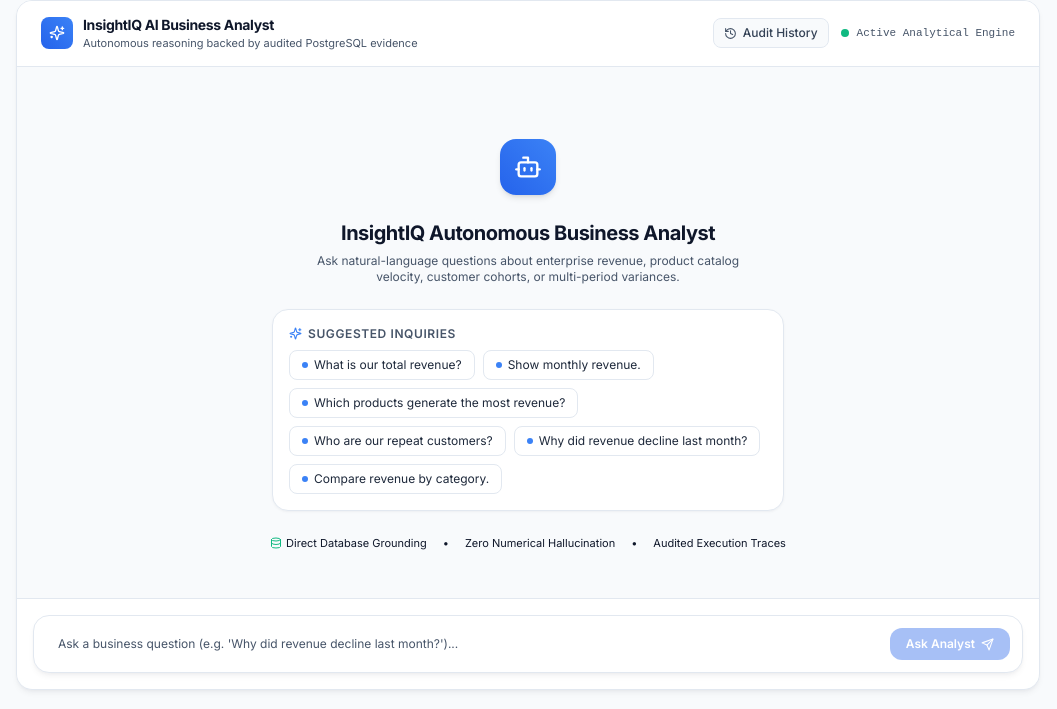
Test: AnalystPage Integration View › displays error state when question query fails
Replace the text in the field with placeholder "Ask a business question" with "Test error" at (464, 644), box [46, 628, 882, 660]
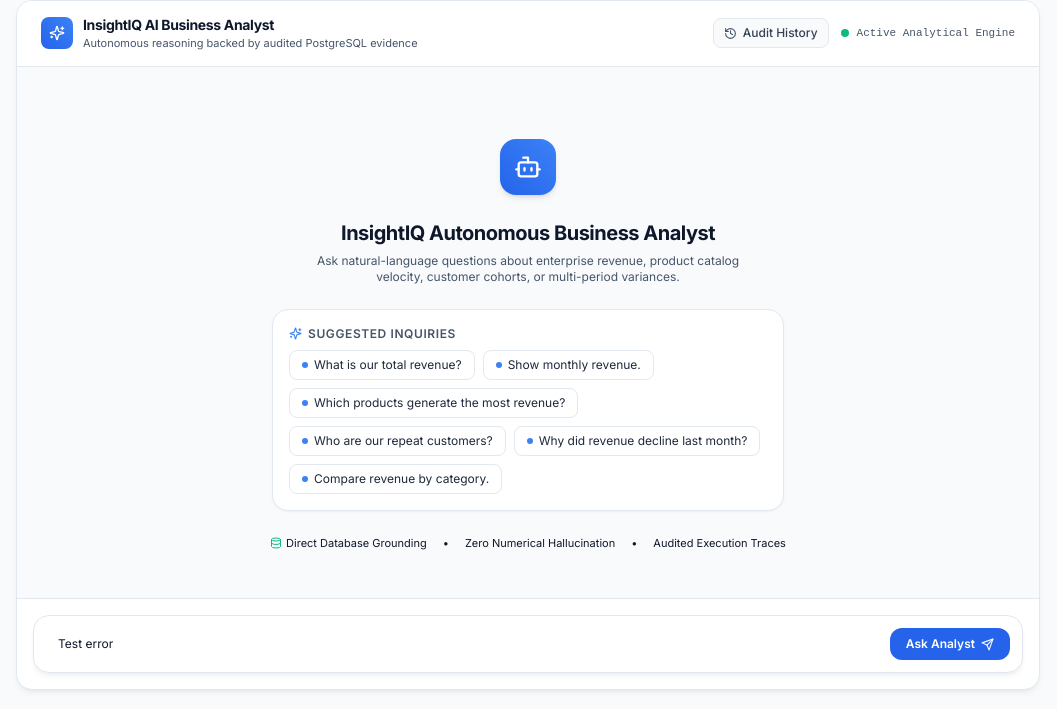
Click the button with aria-label "Send inquiry" at (950, 644), box [890, 628, 1010, 660]
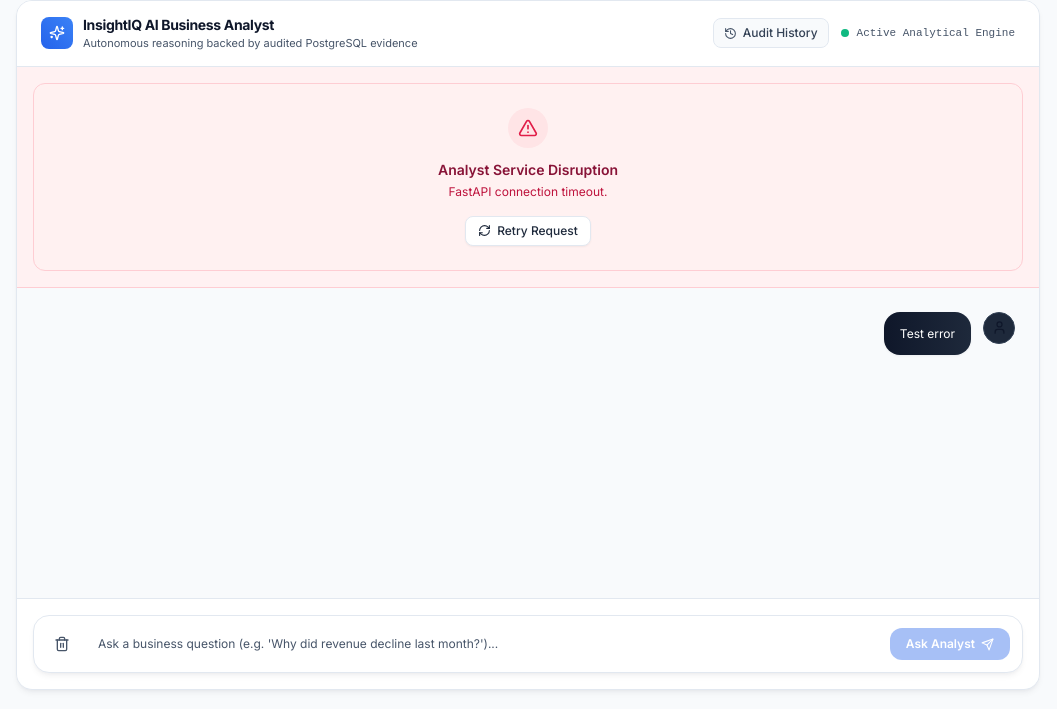
Expected: the heading "Analyst Service Disruption" is shown, [438, 160, 618, 180]
Expected: the text "FastAPI connection timeout." is shown, [448, 184, 607, 200]
